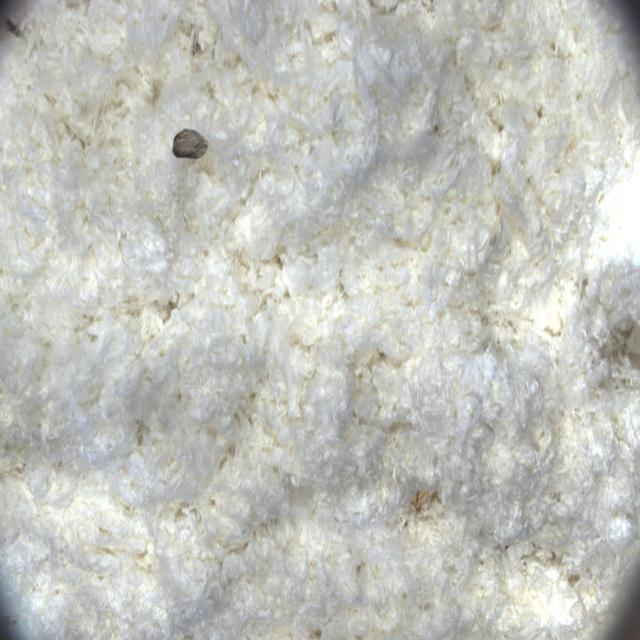dust: (154, 78, 237, 193)
